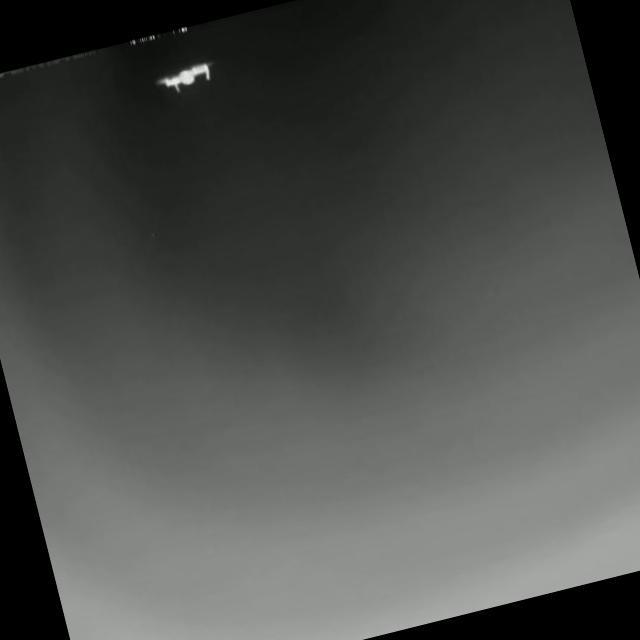DRONE: (148, 58, 221, 96)
